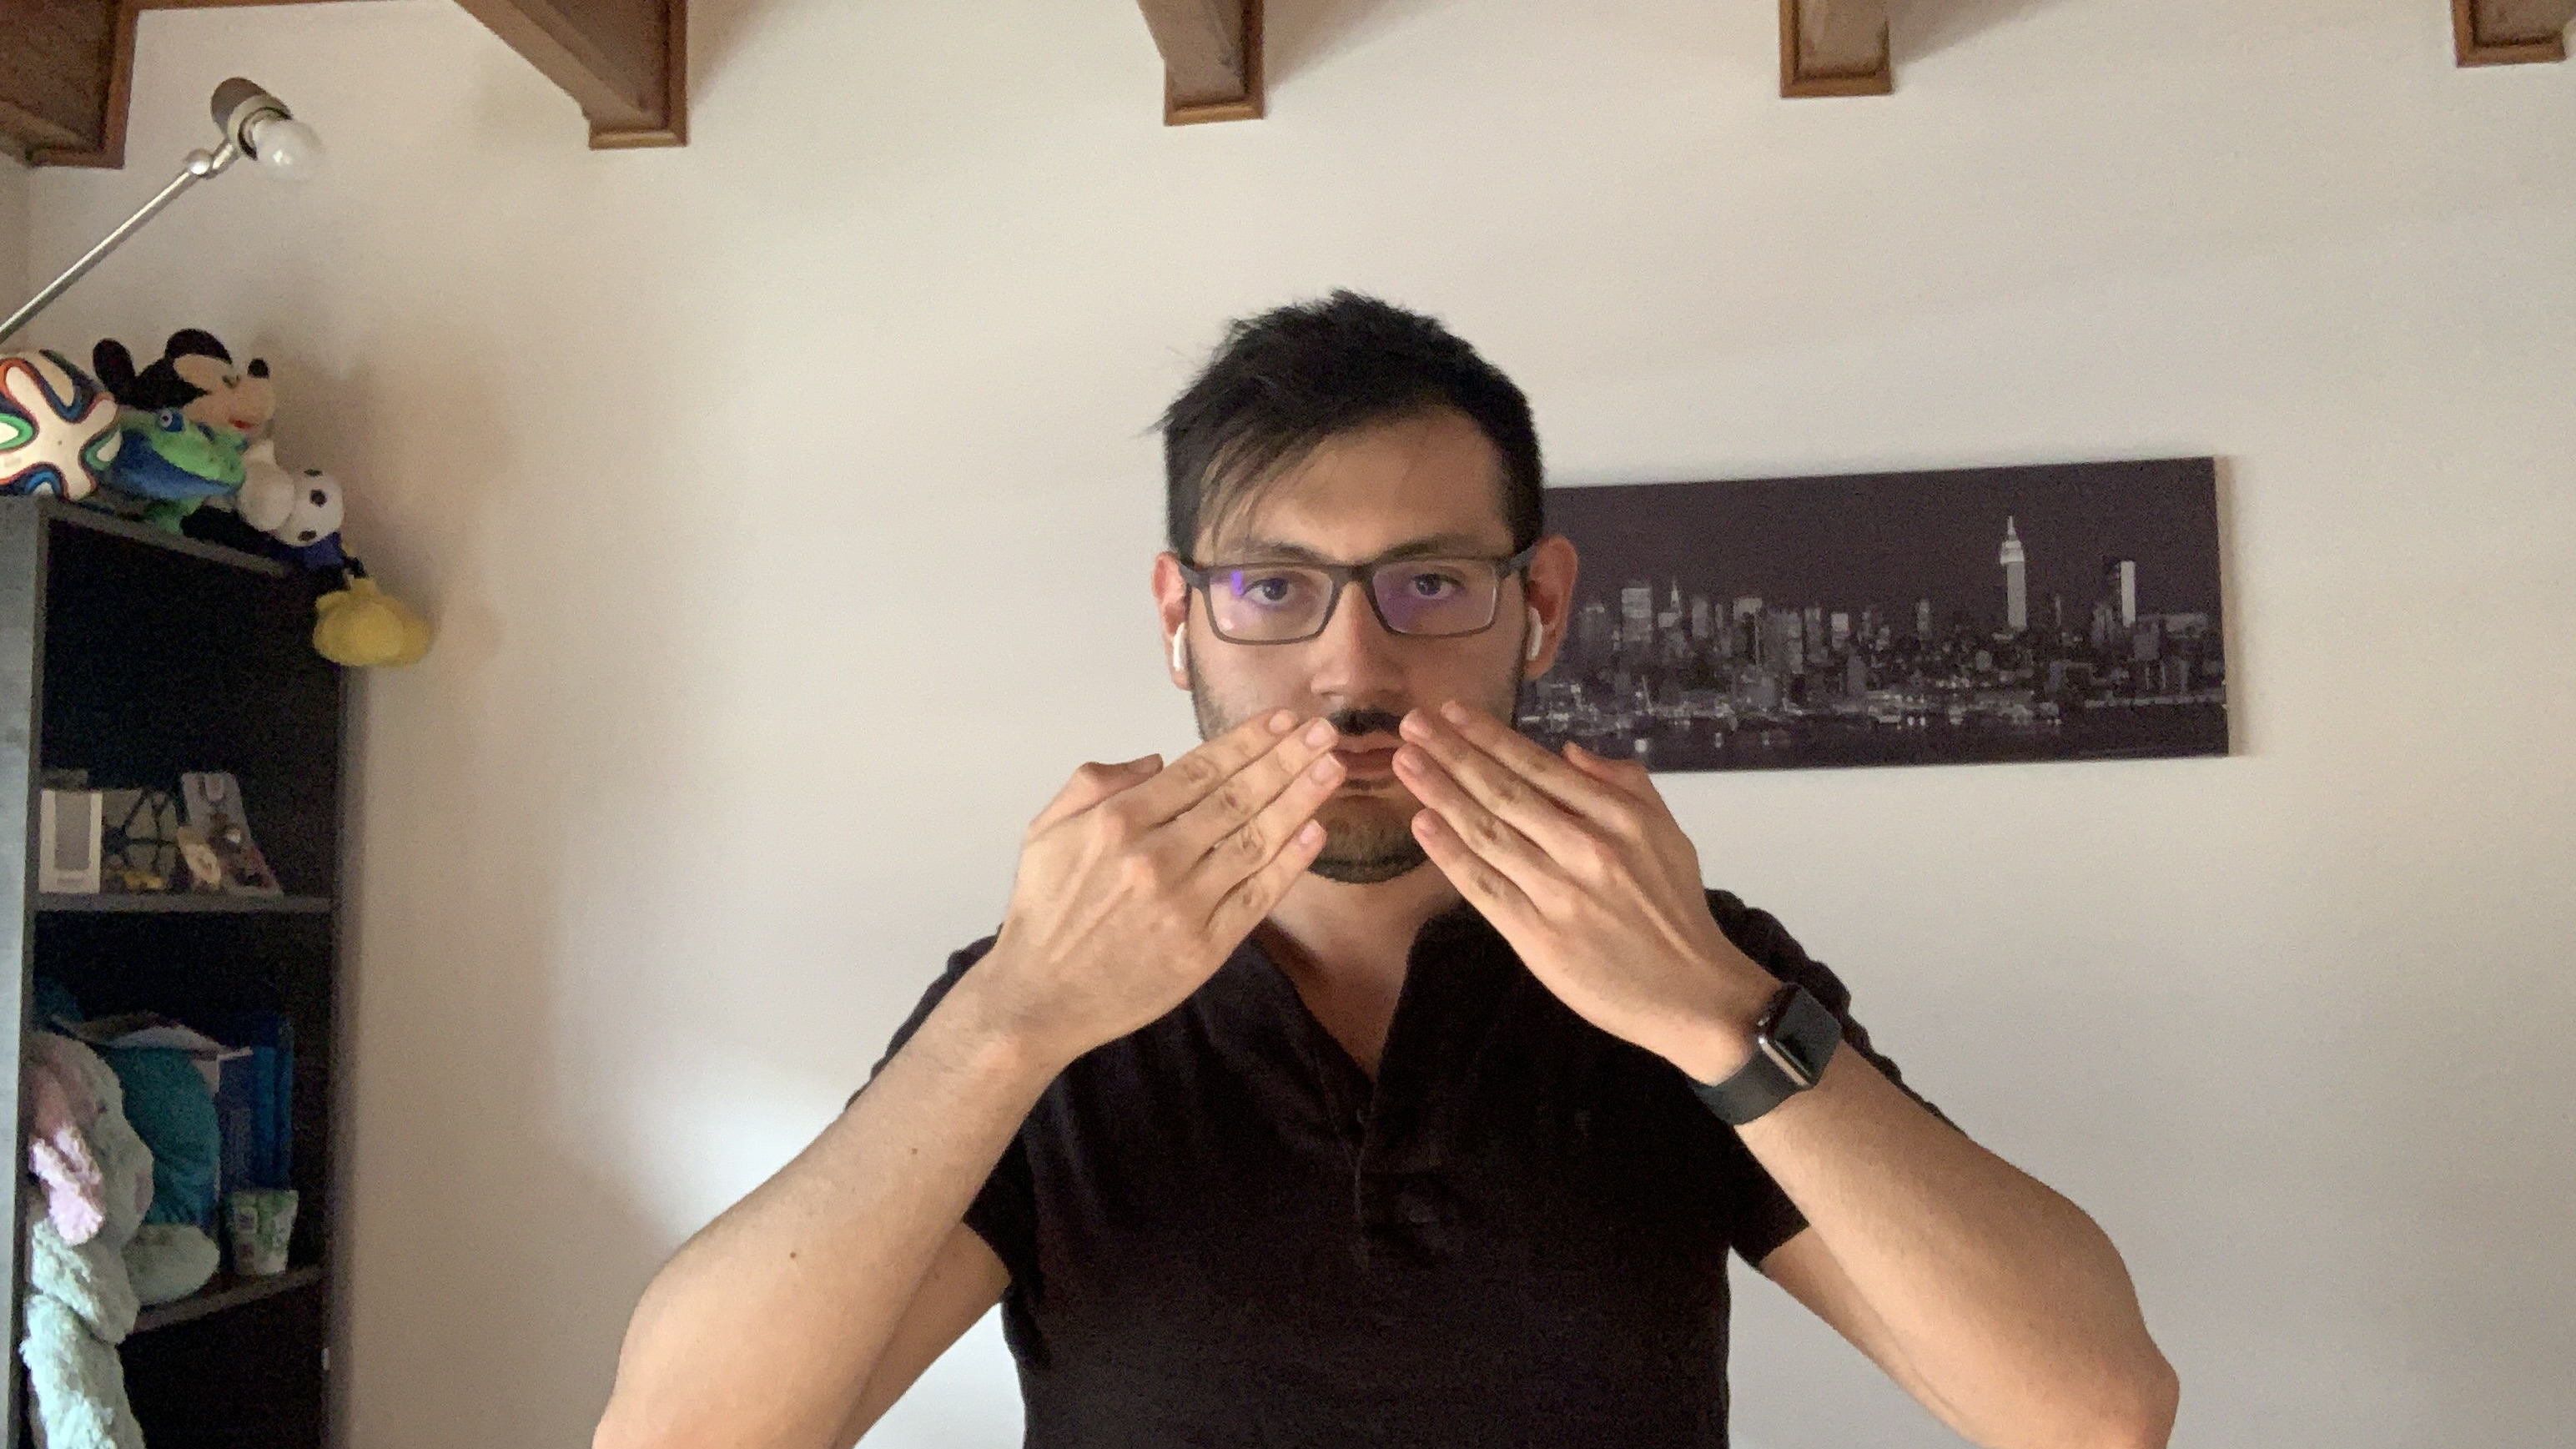Thank You: (973, 697, 1725, 1081)
